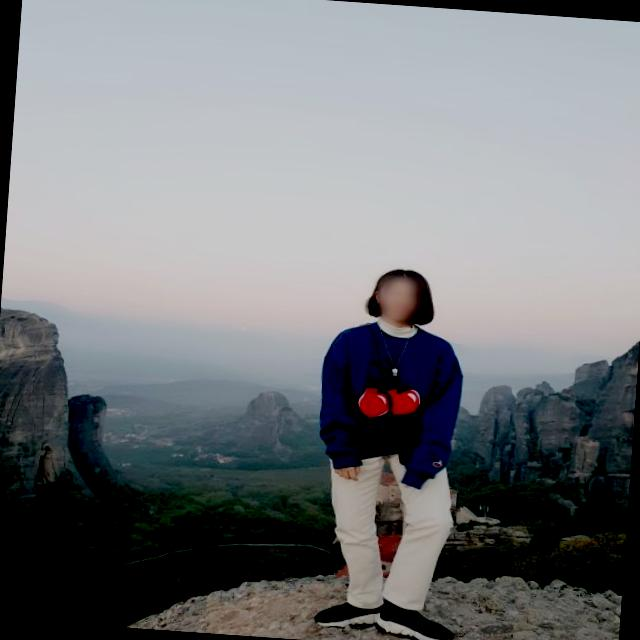cottonpants: (317, 449, 455, 615)
mtm: (315, 314, 471, 492)
